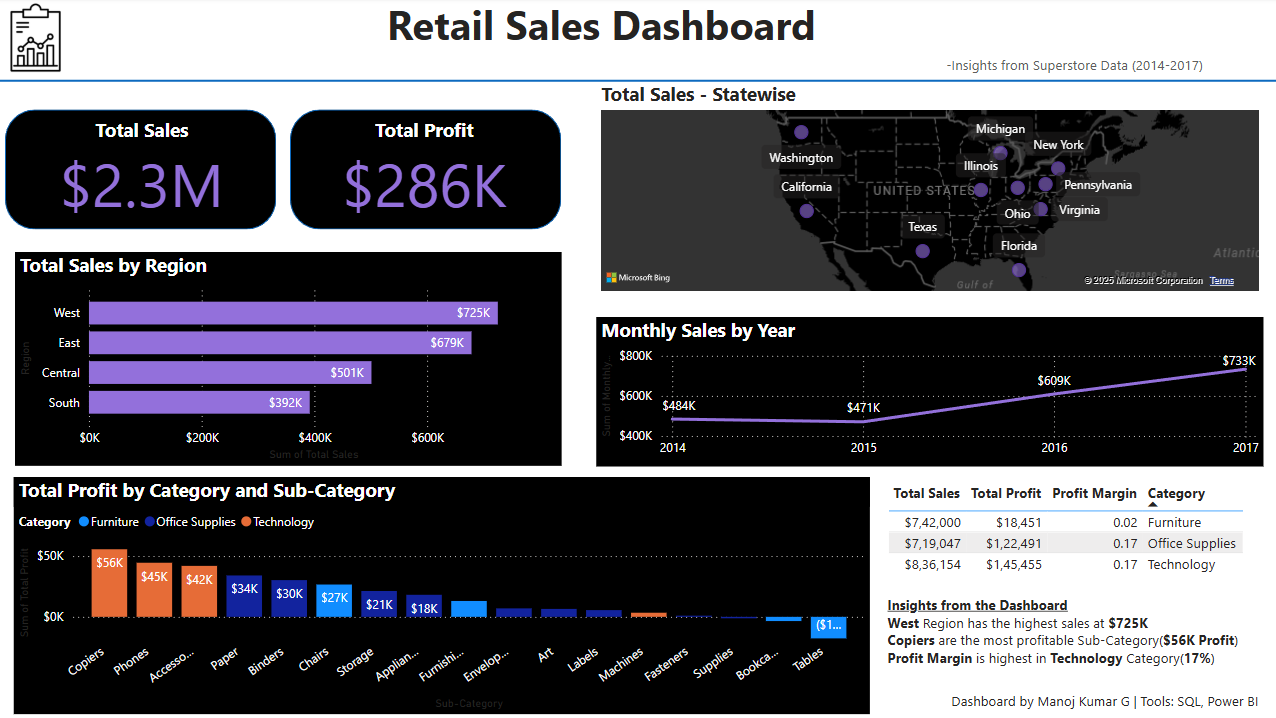

Layout of this report page (visuals, bound fields, positions):
{"tool":"powerbi","page":{"name":"Dashboard","canvas":[1280,720],"ordinal":0},"visuals":[{"type":"textbox","title":"Retail Sales Dashboard","box":[0,0,1207.1,82.9],"z":0},{"type":"clusteredBarChart","title":"Total Sales by Region","fields":{"Y":["Sum(Sales by Region.Total Sales)"],"Category":["Sales by Region.Region"]},"box":[19.9,253.8,543.6,212.7],"z":1000},{"type":"lineChart","title":"Monthly Sales by Year","fields":{"Category":["Monthly Sales Trend.Sales Month.Variation.Date Hierarchy.Year","Monthly Sales Trend.Sales Month.Variation.Date Hierarchy.Quarter","Monthly Sales Trend.Sales Month.Variation.Date Hierarchy.Month","Monthly Sales Trend.Sales Month.Variation.Date Hierarchy.Day"],"Y":["Sum(Monthly Sales Trend.Monthly Sales)"]},"box":[598.6,318.6,664.3,148.6],"z":2000},{"type":"map","title":"Total Sales - Statewise","fields":{"Category":["Top 10 States by Sales.State"],"Size":["Sum(Sales by Region.Total Sales)"]},"box":[598.3,83.3,664.3,215.2],"z":3000},{"type":"columnChart","title":"Total Profit by Category and Sub-Category","fields":{"Series":["Profit by Category and SubCategory.Category"],"Category":["Profit by Category and SubCategory.Sub-Category"],"Y":["Sum(Profit by Category and SubCategory.Total Profit)"]},"box":[18.7,477.7,852.1,236.4],"z":4000},{"type":"tableEx","fields":{"Values":["Sales vs Profit Ratio.Total Sales","Sales vs Profit Ratio.Total Profit","Sales vs Profit Ratio.Profit Margin","Sales vs Profit Ratio.Category"]},"box":[883.2,477.7,368.2,126.9],"z":5000},{"type":"shape","box":[293.6,112,269.9,119.4],"z":6000},{"type":"card","title":"Total Profit","fields":{"Values":["Sum(Total Sales and Profit.Total Profit)"]},"box":[316,119.4,222.7,103.2],"z":7000},{"type":"shape","box":[10,112,269.9,119.4],"z":8000},{"type":"card","title":"Total Sales","fields":{"Values":["Sum(Total Sales and Profit.Total Sales)"]},"box":[34.8,119.4,222.7,103.2],"z":8001},{"type":"image","box":[0,0,80.9,80.9],"z":8002},{"type":"shape","box":[0,11.2,1280,144.3],"z":8003},{"type":"textbox","box":[883.2,590.9,363.2,95.8],"z":8004},{"type":"textbox","box":[946.7,686.7,333.4,32.3],"z":8005}]}

Visuals, with their boxes in screenshot pixels (x1, y1, x2, y2), scaled from the page's 1280x720 canvas onto the 1276x718 screenshot:
"Retail Sales Dashboard" textbox: pyautogui.locateOnScreen(0, 0, 1203, 83)
"Total Sales by Region" clusteredBarChart: pyautogui.locateOnScreen(20, 253, 562, 465)
"Monthly Sales by Year" lineChart: pyautogui.locateOnScreen(597, 318, 1259, 466)
"Total Sales - Statewise" map: pyautogui.locateOnScreen(596, 83, 1259, 298)
"Total Profit by Category and Sub-Category" columnChart: pyautogui.locateOnScreen(19, 476, 868, 712)
tableEx - Sales vs Profit Ratio.Total Sales x Sales vs Profit Ratio.Total Profit: pyautogui.locateOnScreen(880, 476, 1247, 603)
shape: pyautogui.locateOnScreen(293, 112, 562, 231)
"Total Profit" card: pyautogui.locateOnScreen(315, 119, 537, 222)
shape: pyautogui.locateOnScreen(10, 112, 279, 231)
"Total Sales" card: pyautogui.locateOnScreen(35, 119, 257, 222)
image: pyautogui.locateOnScreen(0, 0, 81, 81)
shape: pyautogui.locateOnScreen(0, 11, 1275, 155)
textbox: pyautogui.locateOnScreen(880, 589, 1243, 685)
textbox: pyautogui.locateOnScreen(944, 685, 1275, 717)
